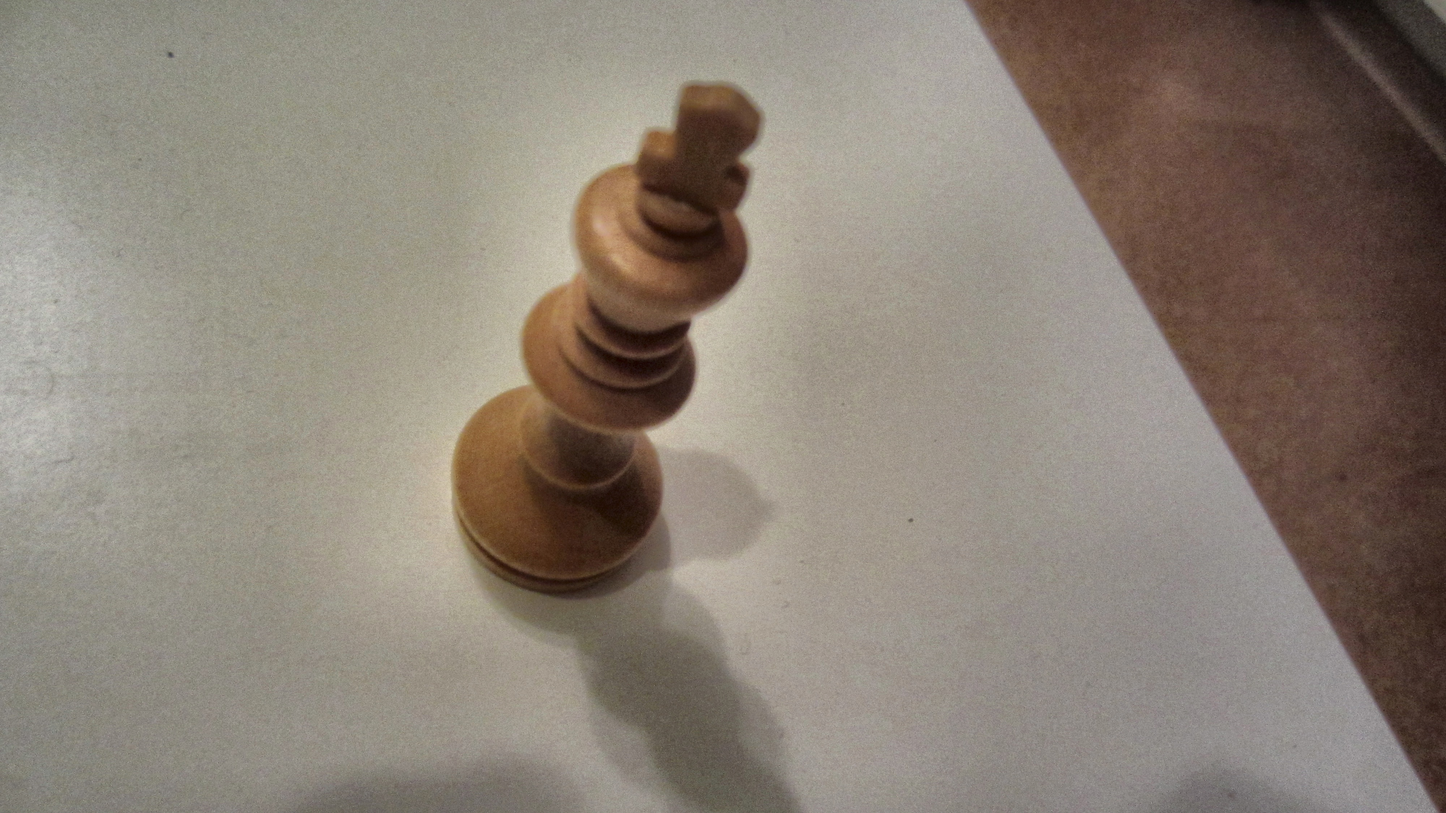white-king: (444, 76, 768, 614)
